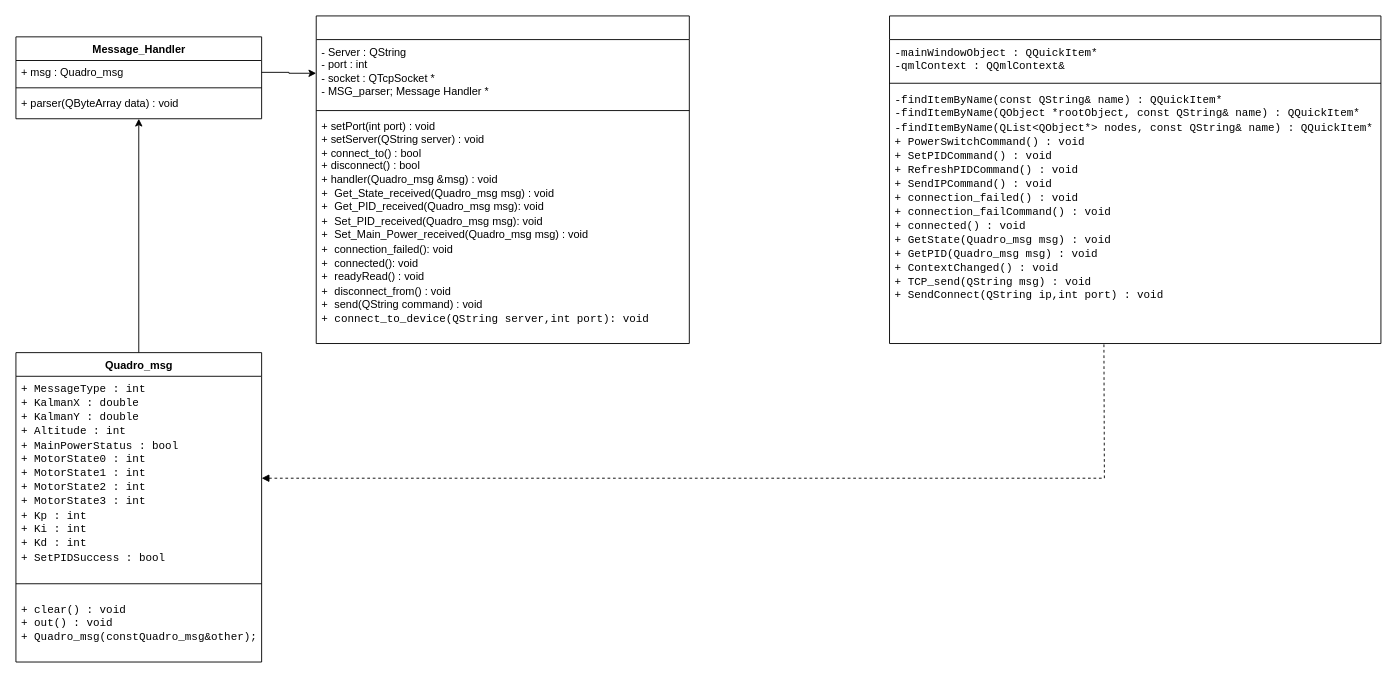
The diagram is 1397 pixels wide and 681 high, and some of its shapes have lost their labels. Each missing label, with the box of its shape:
appWindow: (889, 15, 1381, 344)
TCP_com: (315, 15, 689, 344)
